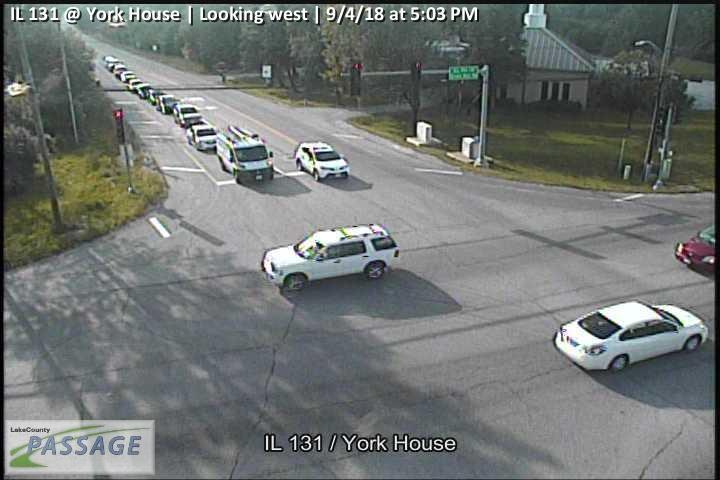SUV: (260, 222, 400, 293), (215, 123, 275, 184)
Sedan: (553, 299, 709, 372), (294, 139, 349, 183), (185, 122, 218, 151), (172, 102, 202, 126), (155, 94, 181, 113), (147, 86, 166, 103), (135, 82, 151, 97)
